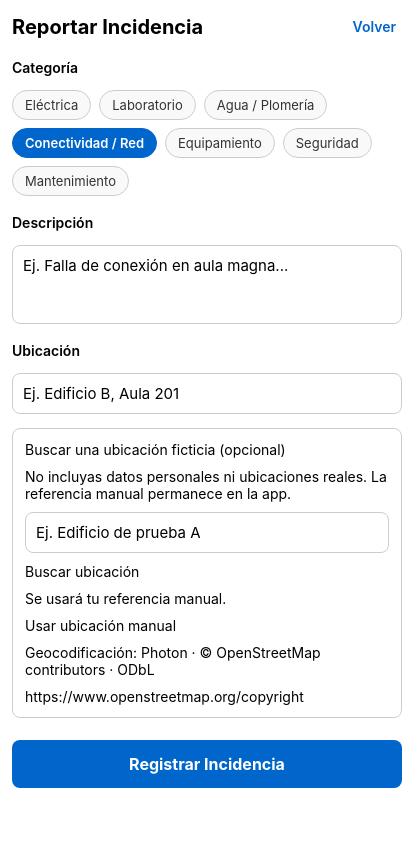
Test: late responses are ignored after unmount
This screenshot has width=414, height=856.
Type "Descripción sintética" into the text box with test id "create-description-input" at (207, 284), box [12, 245, 402, 324]
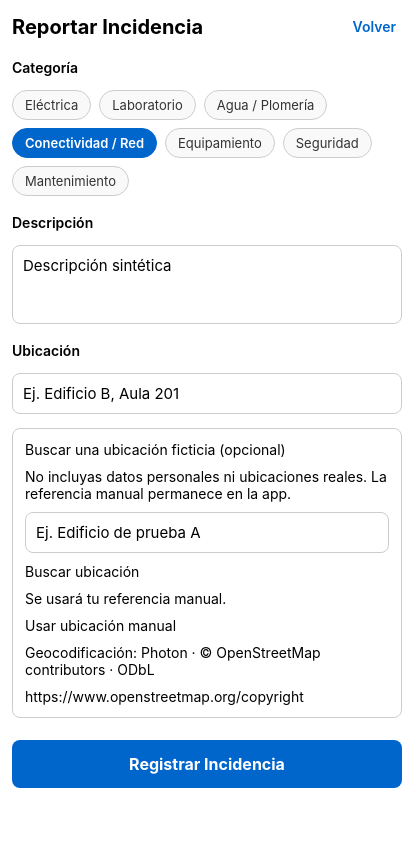
Type "Referencia manual ficticia" into the field with test id "create-location-input" at (207, 394), box [12, 373, 402, 414]
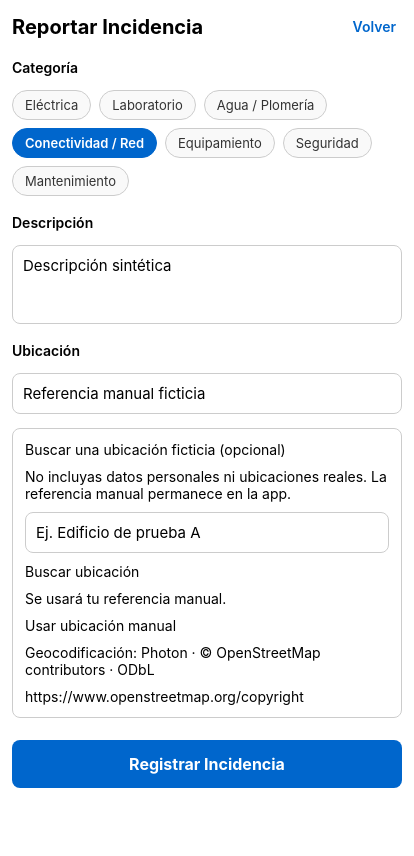
Type "Edificio de prueba A" into the field with test id "location-query-input" at (207, 532), box [25, 512, 389, 553]
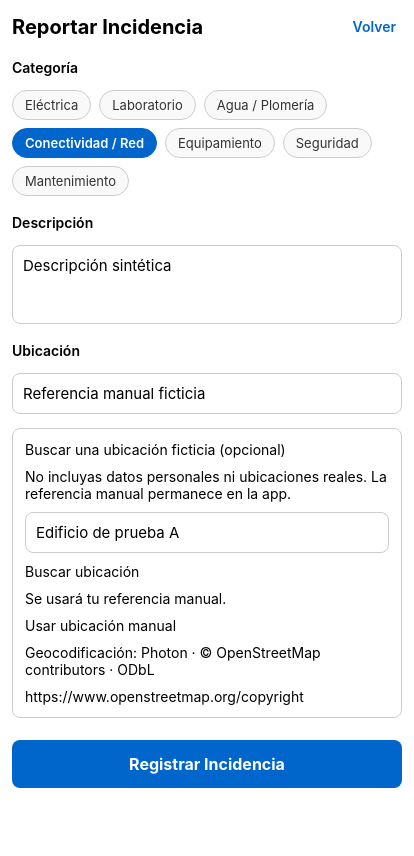
Click the button with test id "location-search-button" at (82, 572), box [25, 563, 389, 580]
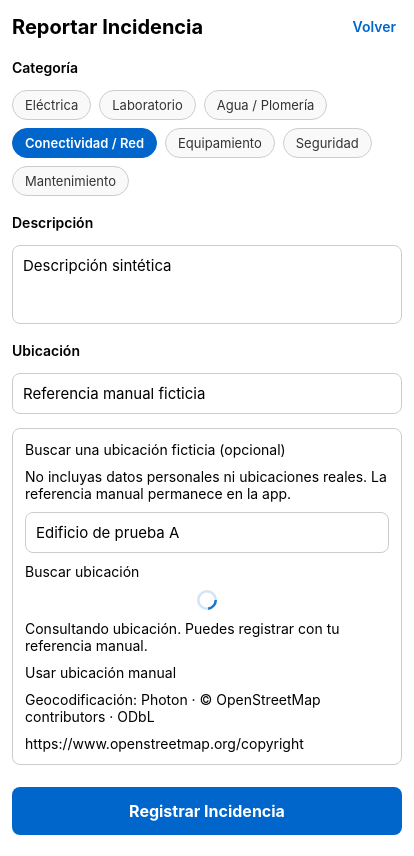
expect the progress indicator with test id "location-search-loading" is shown: met, box [197, 590, 217, 610]
